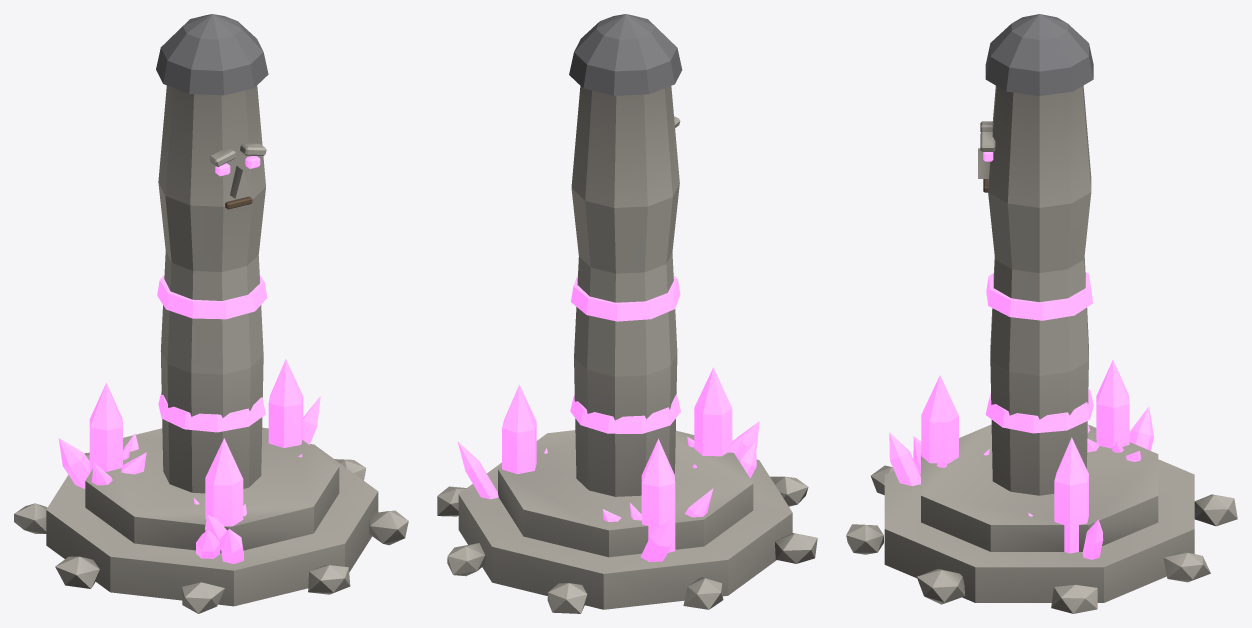
File: idol_samotsvet.glb
The picture shows the model from 3 angles, left to right: view 1: azimuth 30°, elevation 25°; view 2: azimuth 150°, elevation 25°; view 3: azimuth 270°, elevation 25°; orthographic projection.
Parts seen in each view (by area): view 1: idol_samotsvet; view 2: idol_samotsvet; view 3: idol_samotsvet.
Boxes of the visible parts, <box> form: idol_samotsvet: <box>14,14,408,613</box>; idol_samotsvet: <box>437,14,817,613</box>; idol_samotsvet: <box>846,14,1237,613</box>.
Size of the model in its own units: 0.7975 by 1.18 by 0.7933.
